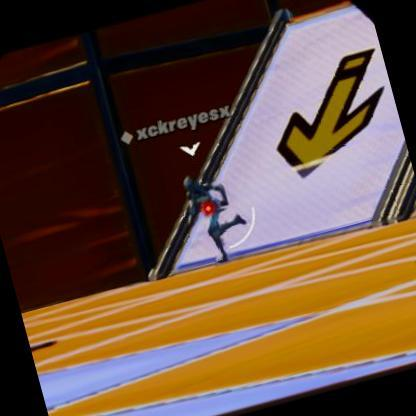person: (178, 169, 242, 261)
